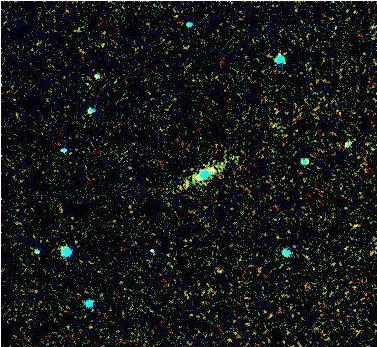star: (194, 155, 224, 185)
